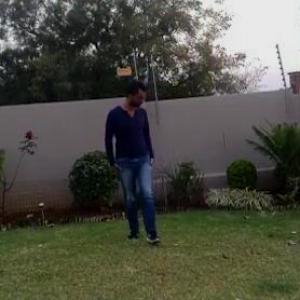follow: (107, 74, 161, 245)
